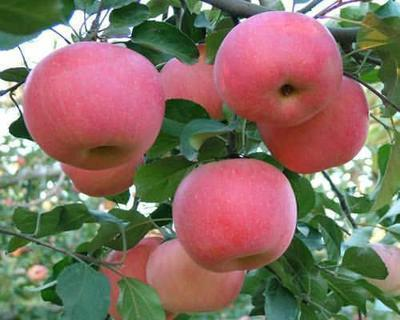apple: (22, 42, 162, 171), (211, 10, 343, 128), (174, 161, 297, 273), (259, 66, 370, 172)
